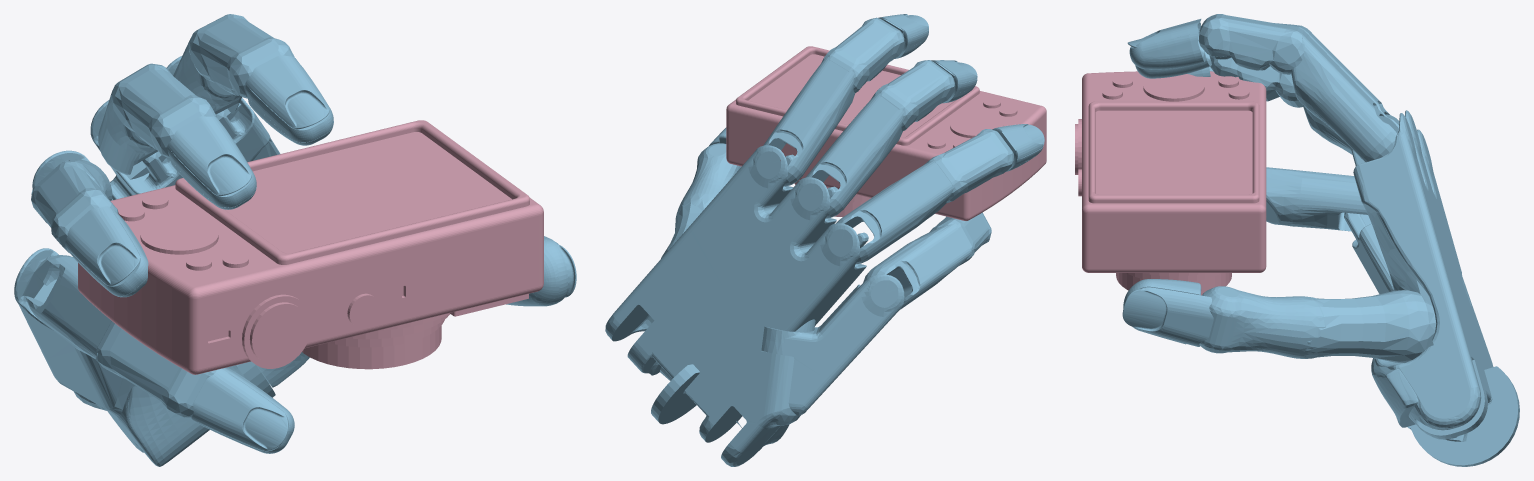
3 renders of one model, left to right at view 1: azimuth 30°, elevation 25°; view 2: azimuth 150°, elevation 25°; view 3: azimuth 270°, elevation 25°, orthographic. The views are drawn at different scales.
Visible parts, largest first — view 1: camera.stl, world; view 2: world, camera.stl; view 3: world, camera.stl.
Boxes of the visible parts, bbox=[...] form: camera.stl: bbox=[78, 120, 543, 374]; world: bbox=[14, 14, 576, 466]; world: bbox=[605, 14, 1044, 466]; camera.stl: bbox=[726, 46, 1046, 220]; world: bbox=[1122, 14, 1519, 466]; camera.stl: bbox=[1075, 71, 1266, 295].
Size of the model in its own units: 0.1458 by 0.1634 by 0.1561.
